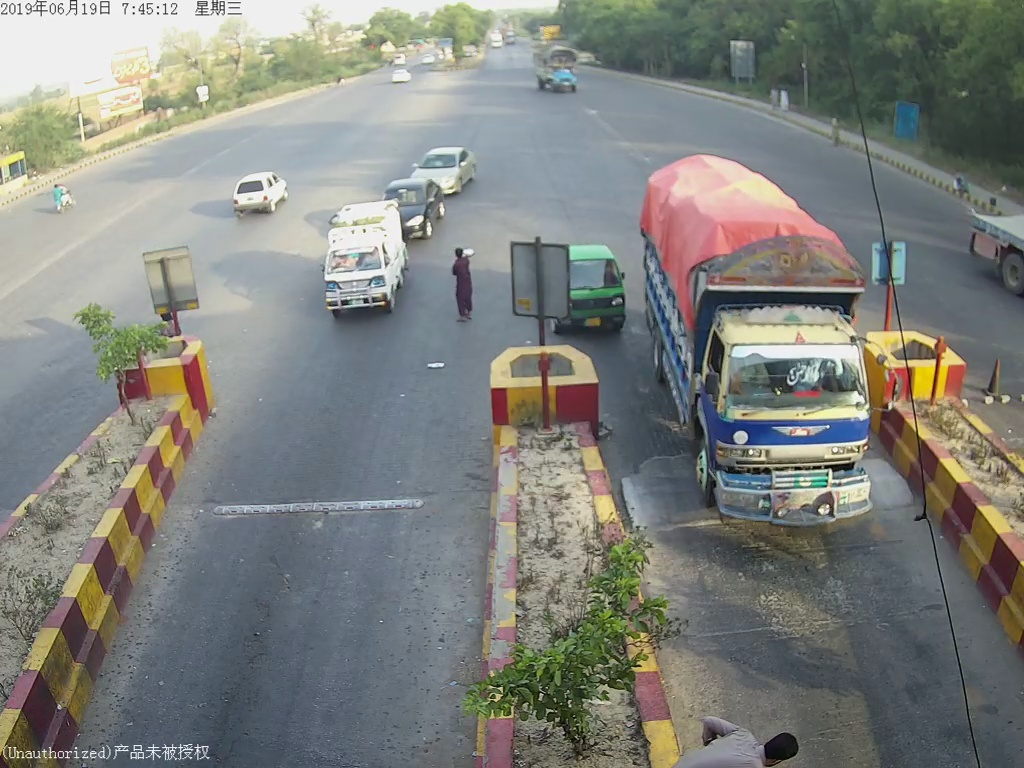Cat-1: (326, 208, 402, 312), (567, 242, 629, 346)
Cat-4: (648, 176, 882, 524)
